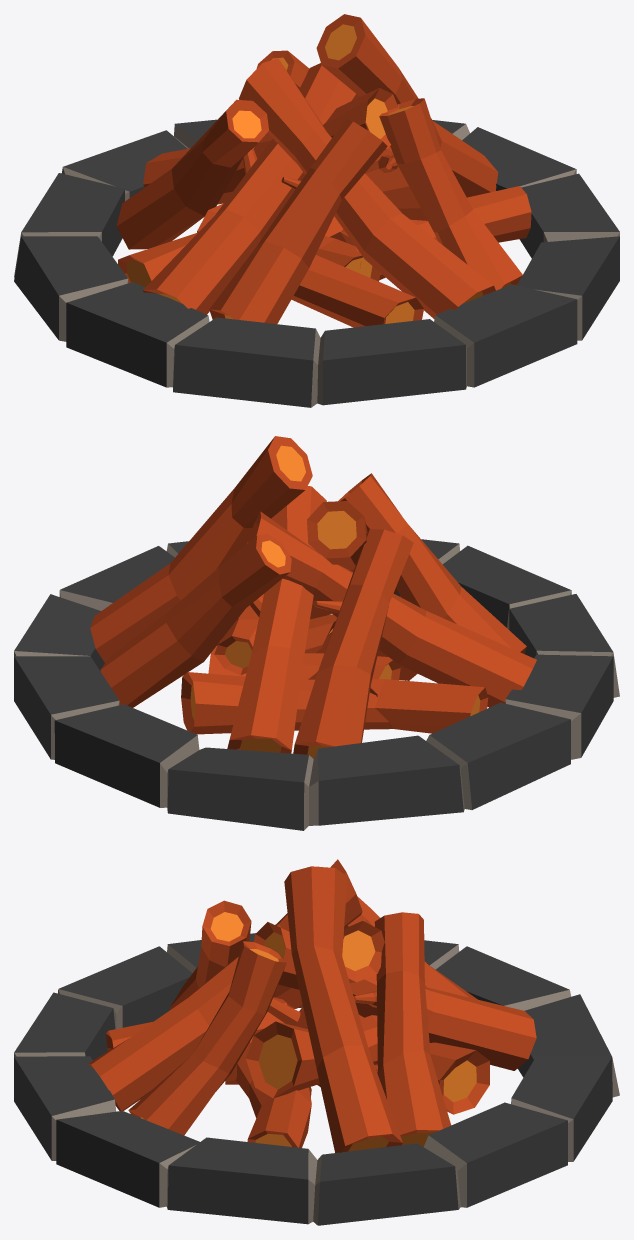
The model's file is item17.glb.
3 views of the same model, one above another, from view 1: azimuth 30°, elevation 25°; view 2: azimuth 150°, elevation 25°; view 3: azimuth 270°, elevation 25° (orthographic).
Visible parts, largest first — view 1: Item17; view 2: Item17; view 3: Item17.
Boxes of the visible parts, x1,y1,x2,y2 form: Item17: (14, 14, 619, 407); Item17: (14, 436, 619, 830); Item17: (14, 859, 619, 1225).
Size of what is drawn, in the model's own units: 0.6476 by 0.3004 by 0.6538.
1 material, 1 textured.
